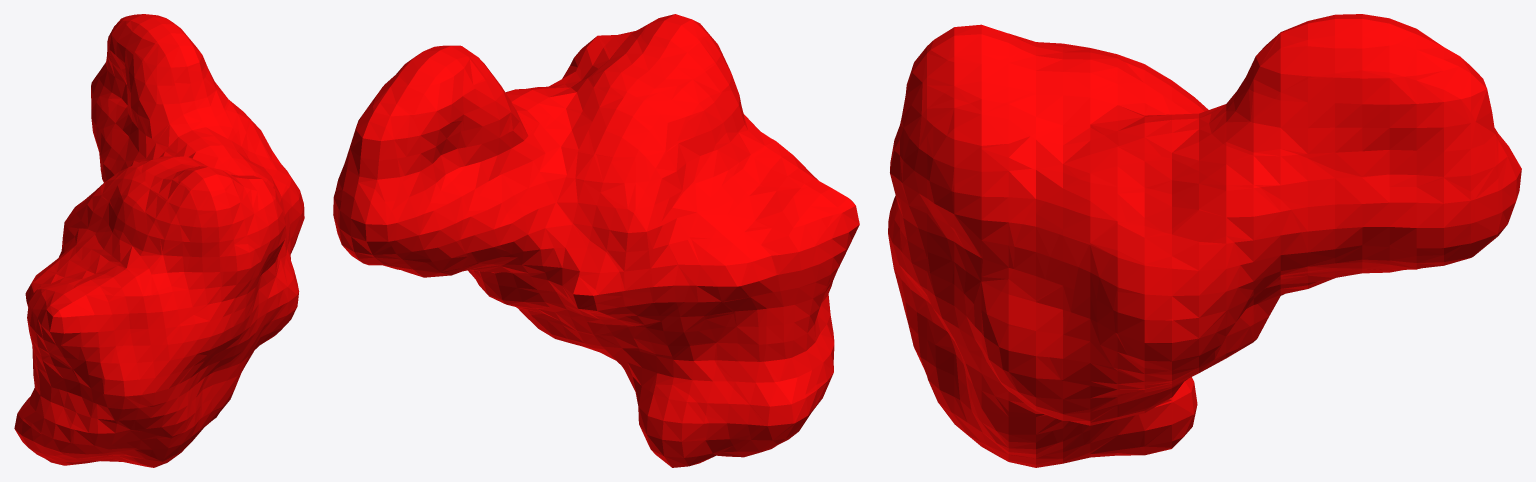
File: rpsB_coarse.dae
3 views of the same model, side by side, from view 1: azimuth 30°, elevation 25°; view 2: azimuth 150°, elevation 25°; view 3: azimuth 270°, elevation 25° (orthographic). The views are drawn at different scales.
Visible parts, largest first — view 1: rpsB; view 2: rpsB; view 3: rpsB.
Part boxes in pixels (x1,y1,x2,y2): rpsB: (14,14,304,467); rpsB: (333,14,859,467); rpsB: (888,14,1521,467).
Size of the model in its own units: 52.09 by 56.01 by 59.98.
